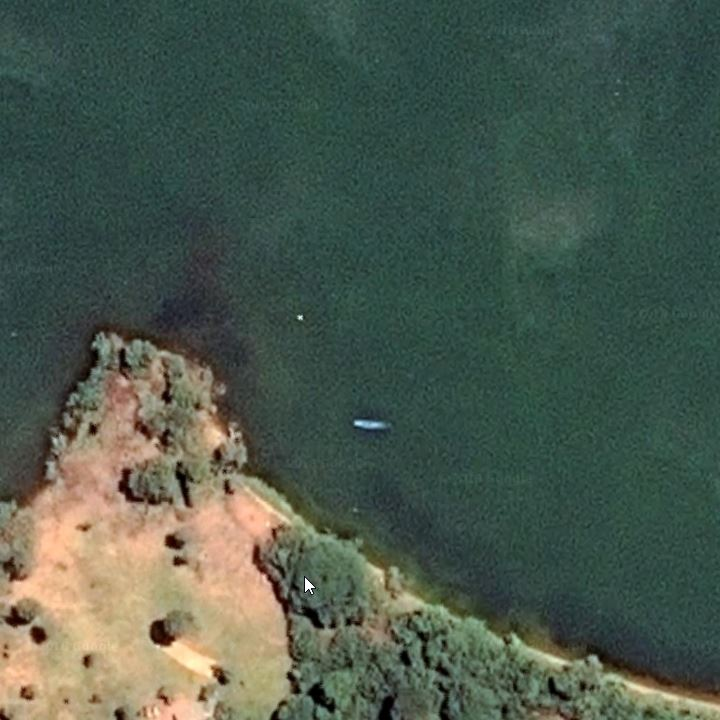boat: (345, 410, 400, 438)
